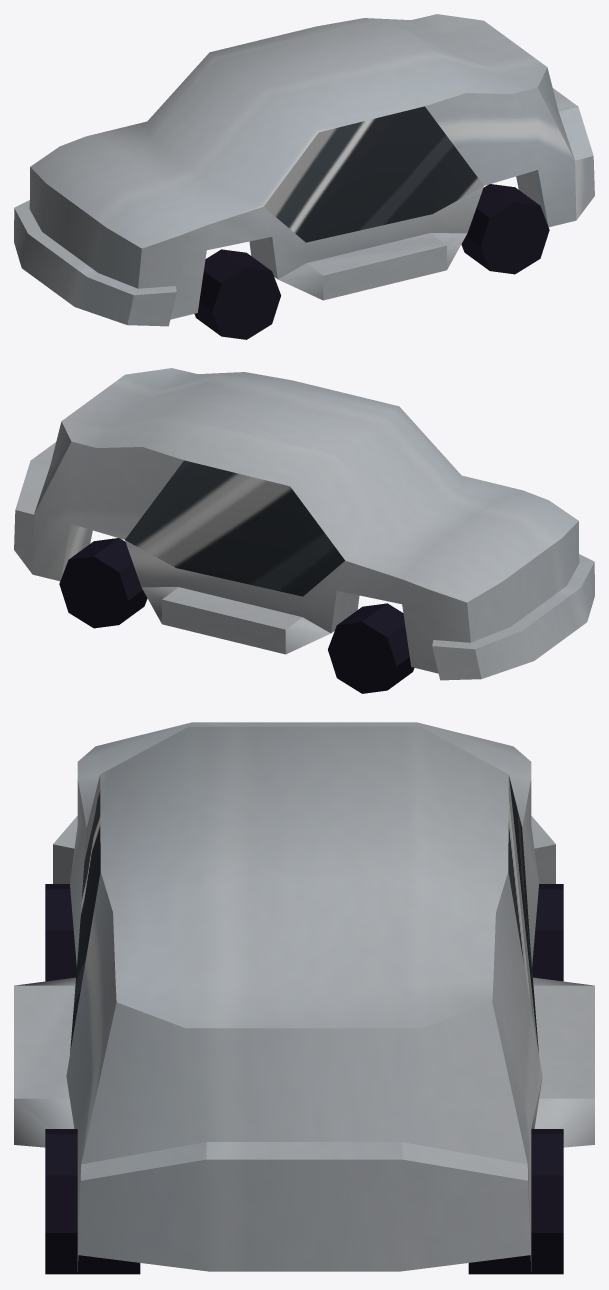
The model's file is SM_Cars2.fbx.
3 views of the same model, one above another, from view 1: azimuth 30°, elevation 25°; view 2: azimuth 150°, elevation 25°; view 3: azimuth 270°, elevation 25° (orthographic). The views are drawn at different scales.
Visible parts, largest first — view 1: SM_Car02; view 2: SM_Car02; view 3: SM_Car02.
Boxes of the visible parts, x1,y1,x2,y2 form: SM_Car02: (14, 14, 594, 339); SM_Car02: (14, 368, 594, 693); SM_Car02: (14, 722, 594, 1274).
Size of the model in its own units: 662 by 353 by 241.
1 material, 1 textured.
